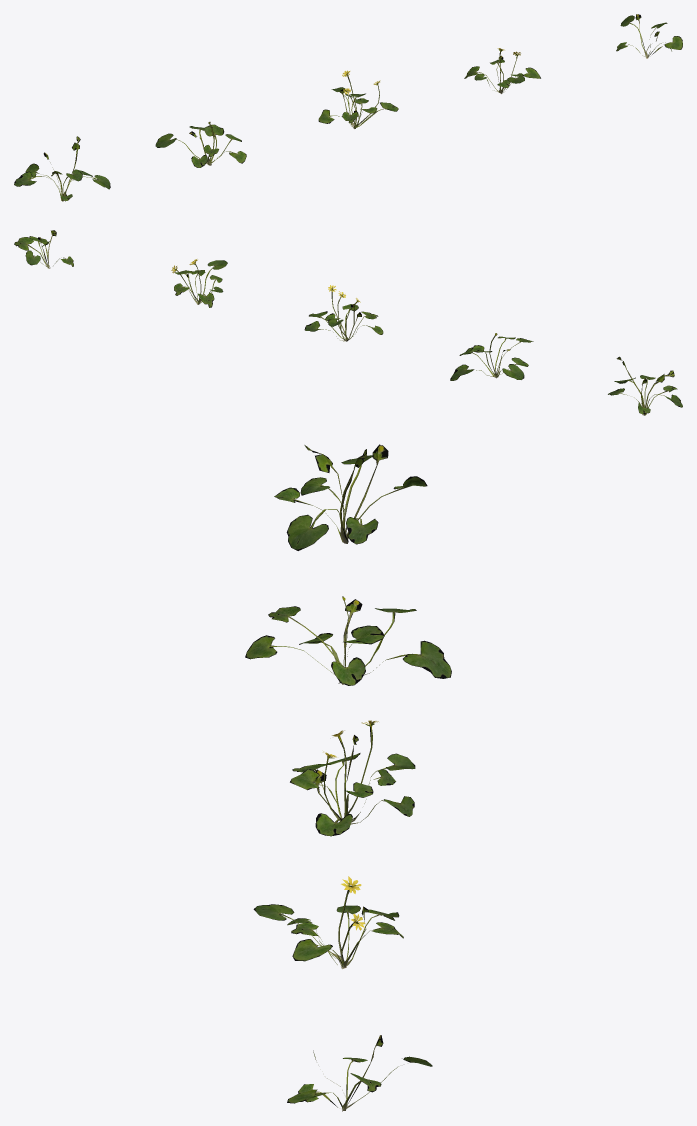
The model's file is ph-celandine_01.glb.
3 views of the same model, one above another, from view 1: azimuth 30°, elevation 25°; view 2: azimuth 150°, elevation 25°; view 3: azimuth 270°, elevation 25° (orthographic). The views are drawn at different scales.
Parts seen in each view (by area): view 1: celandine_01_a_LOD0; view 2: celandine_01_a_LOD0; view 3: celandine_01_a_LOD0.
Part boxes in pixels (bbox=[...]): celandine_01_a_LOD0: bbox=[14, 14, 682, 201]; celandine_01_a_LOD0: bbox=[14, 230, 682, 415]; celandine_01_a_LOD0: bbox=[245, 444, 451, 1111].
Bounding box in the file's own units: 2.24 × 0.1859 × 0.3067.
1 material, 1 textured.
